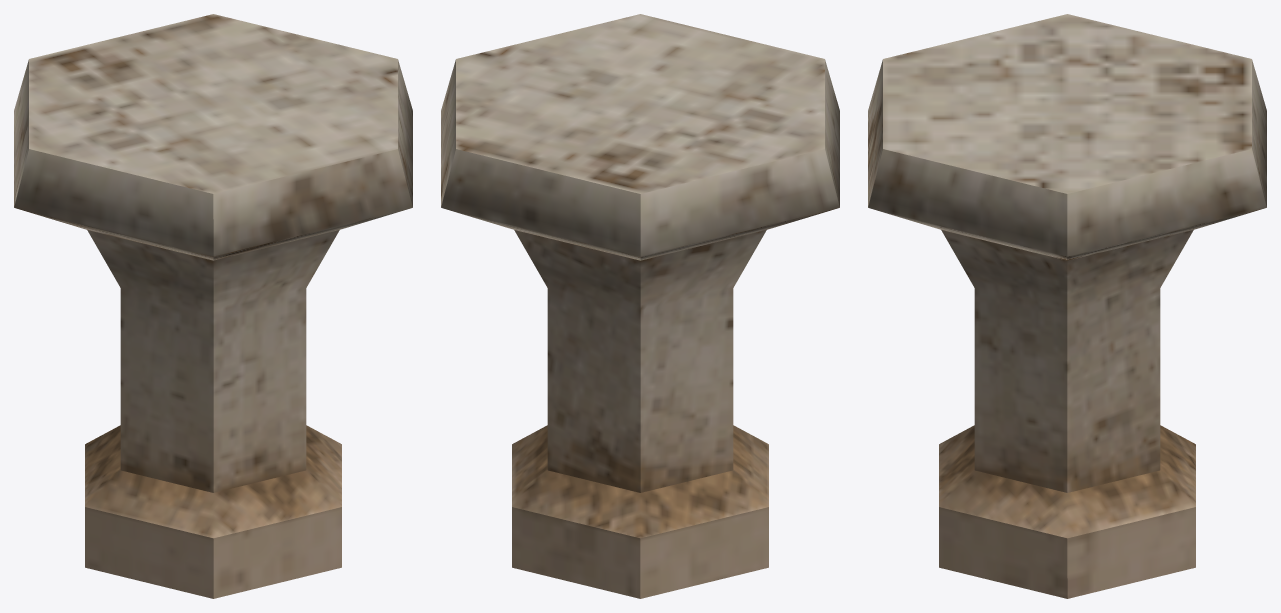
The model's file is altar.glb.
The picture shows the model from 3 angles, left to right: view 1: azimuth 30°, elevation 25°; view 2: azimuth 150°, elevation 25°; view 3: azimuth 270°, elevation 25°; orthographic projection.
Parts seen in each view (by area): view 1: altar_geo; view 2: altar_geo; view 3: altar_geo.
Part boxes in pixels (x1,y1,x2,y2): altar_geo: [14, 14, 412, 598]; altar_geo: [441, 14, 839, 598]; altar_geo: [868, 14, 1266, 598].
Size of the model in its own units: 1.22 by 1.26 by 1.06.
1 material, 1 textured.
